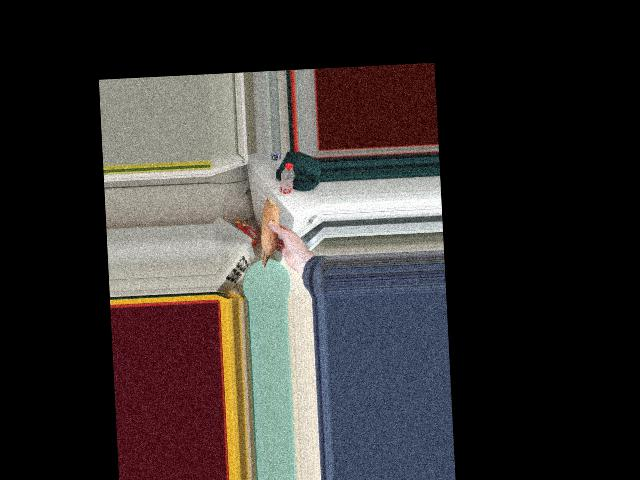sweet_potato: (259, 202, 281, 269)
